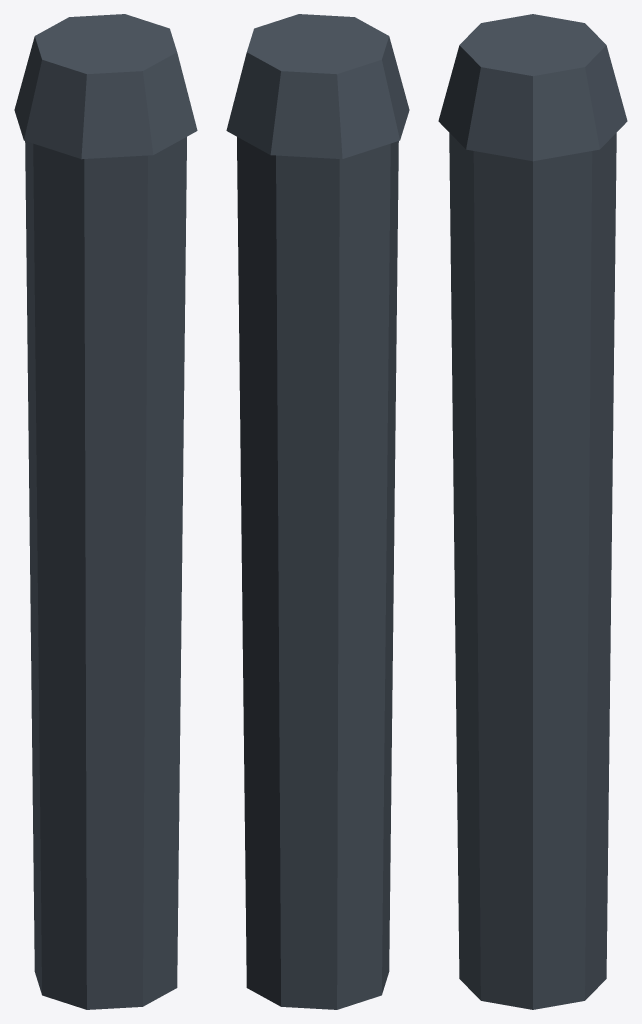
File: prop_bollard.glb
The picture shows the model from 3 angles, left to right: view 1: azimuth 30°, elevation 25°; view 2: azimuth 150°, elevation 25°; view 3: azimuth 270°, elevation 25°; orthographic projection.
Visible parts, largest first — view 1: post.273, head.003; view 2: post.273, head.003; view 3: post.273, head.003.
Part boxes in pixels (box(x1,y1,x2,y2)): post.273: box(25, 137, 186, 1009); head.003: box(14, 14, 197, 159); post.273: box(237, 137, 398, 1009); head.003: box(226, 14, 409, 159); post.273: box(449, 133, 616, 1009); head.003: box(438, 14, 627, 161).
Bounding box in the file's own units: 0.18 × 0.98 × 0.18.
